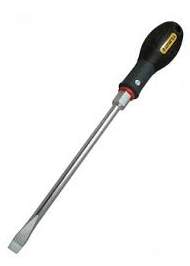Screwdriver: (7, 21, 189, 256)
